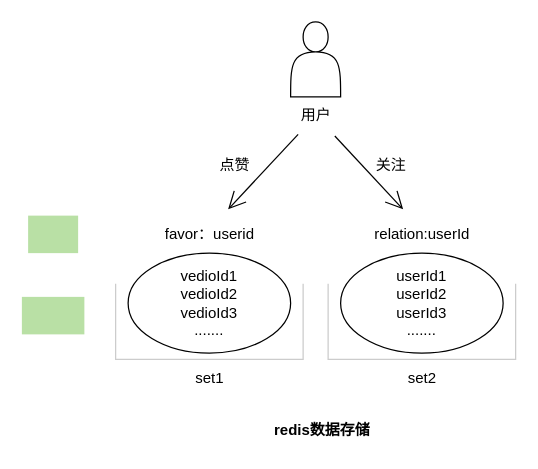
Image size: 538x469. Some labels were removed from this diagram. The shapes that lost their labels are listed below. From the top down, each one's box as (x1, y1, x2, y2) in pixels, then its label:
(28, 215, 78, 252): key
(21, 296, 84, 334): value
